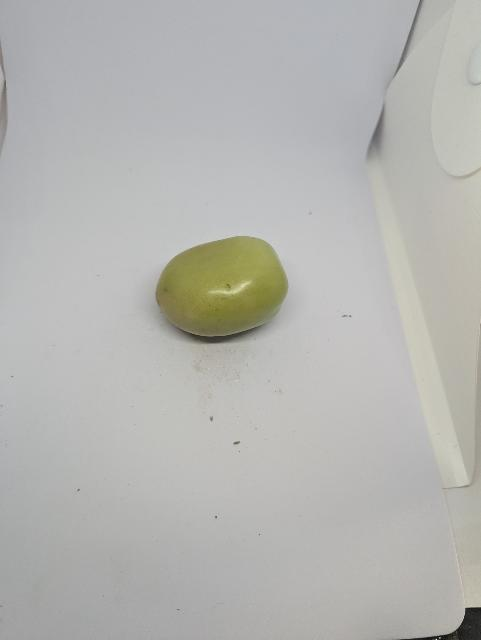green: (153, 234, 291, 339)
